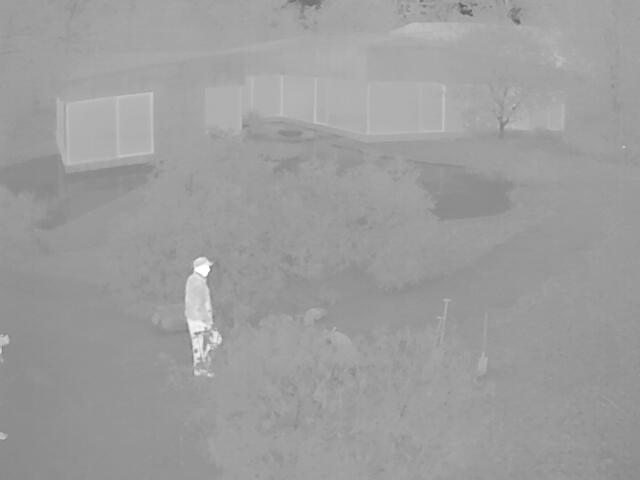person: (183, 255, 220, 379)
